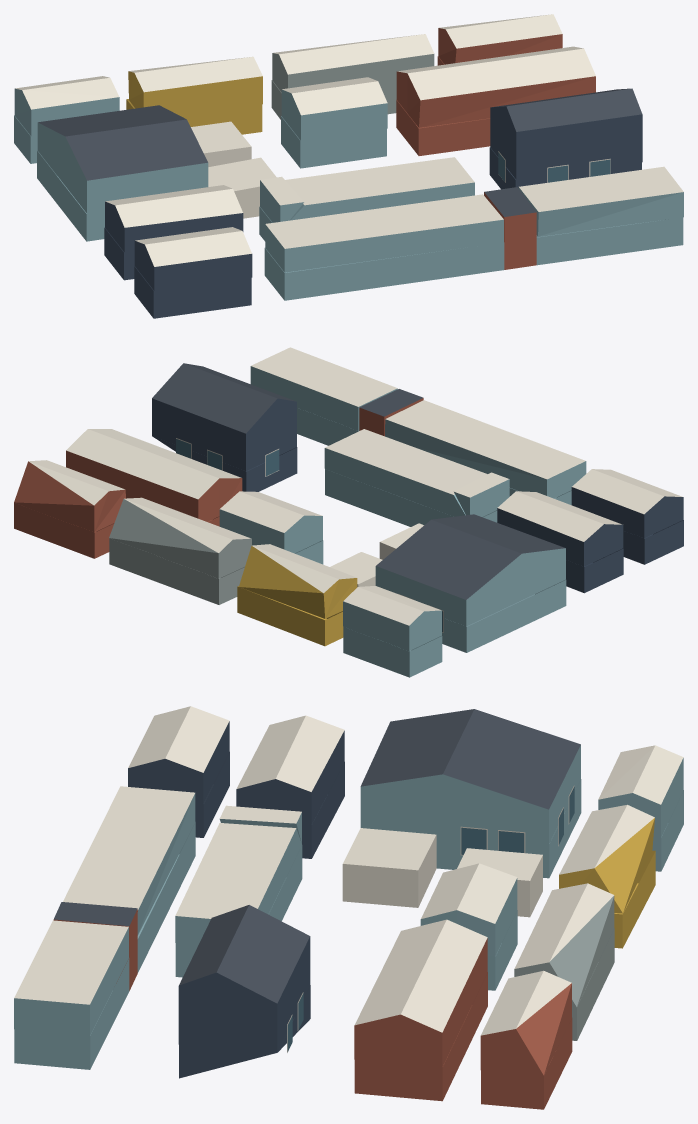
The model's file is treehouse-ndsm.lod2.glb.
The picture shows the model from 3 angles, top to bottom: view 1: azimuth 30°, elevation 25°; view 2: azimuth 150°, elevation 25°; view 3: azimuth 270°, elevation 25°; orthographic projection. The views are drawn at different scales.
Visible parts, largest first — view 1: lod2; view 2: lod2; view 3: lod2.
Part boxes in pixels (box(x1,y1,x2,y2)): lod2: box(14, 14, 683, 318); lod2: box(14, 347, 683, 677); lod2: box(14, 706, 683, 1109).
Size of the model in its own units: 60.33 by 9.32 by 51.64.
